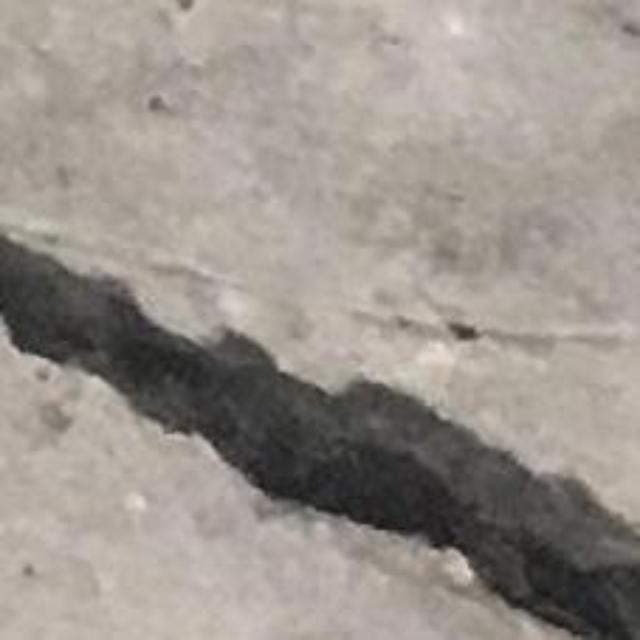crack: (0, 235, 639, 639)
